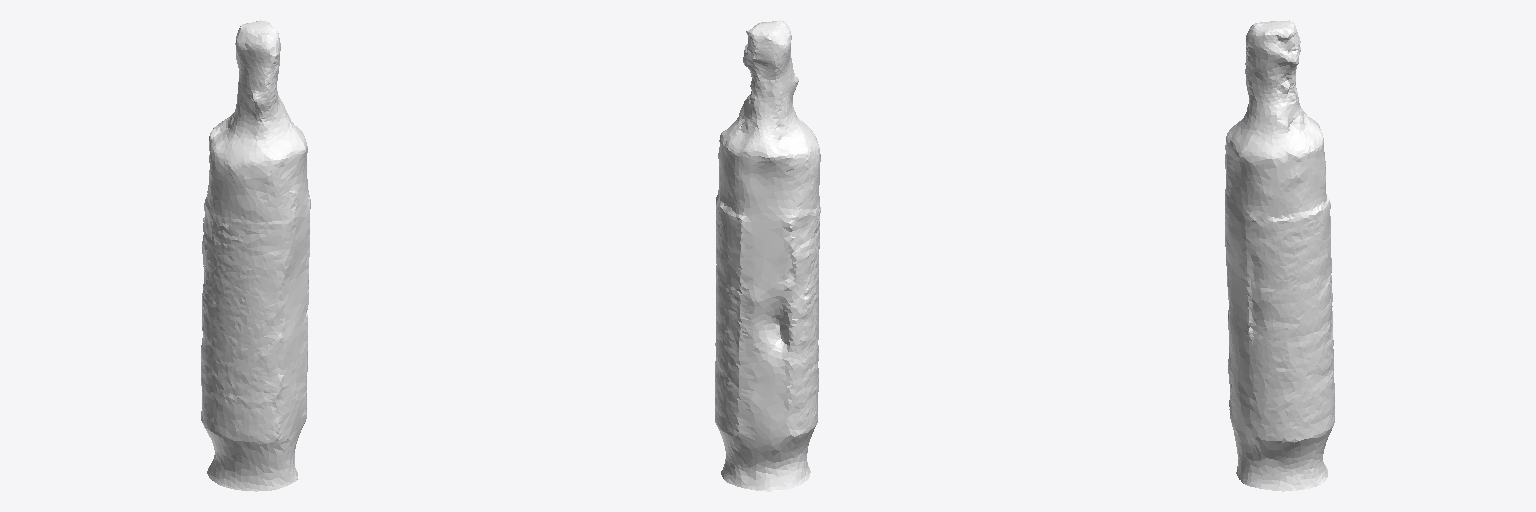
The robot description file, URDF, robot "oil":
<?xml version="1.0" ?>
<robot name="oil">
 <link name="baseLink">
   <contact>
     <lateral_friction value="0.5"/>
   </contact>
   <inertial>
     <origin rpy="0 0 0" xyz="0.001807 -0.000261 -0.016354"/>
      <mass value="1.0"/>
      <inertia ixx="0.000003" ixy="-0.000000" ixz="-0.000000" iyy="0.000003" iyz="0.000000" izz="0.000000"/>
   </inertial>
   <visual>
     <origin rpy="0 0 0" xyz="0 0 0"/>
     <geometry>
       <mesh filename="oil.obj" scale="1.0 1.0 1.0"/>
     </geometry>
      <material name="white">
       <color rgba="1 1 1 1"/>
     </material>
   </visual>
   <collision>
     <origin rpy="0 0 0" xyz="0 0 0"/>
     <geometry>
       <mesh filename="oil_vhacd2.obj" scale="1.0 1.0 1.0"/>
     </geometry>
   </collision>
 </link>
</robot>

--- What the picture shows (computed from the rendered views, not written in the file) ---
The picture shows the robot from 3 angles, left to right: view 1: azimuth 30°, elevation 25°; view 2: azimuth 150°, elevation 25°; view 3: azimuth 270°, elevation 25°; orthographic projection.
Robot: oil — 1 links, 0 joints (none); root link baseLink; default pose: all joints at 0.
Links seen in each view (by area): view 1: baseLink; view 2: baseLink; view 3: baseLink.
Link boxes in pixels (x1,y1,x2,y2): baseLink: (201,20,310,491); baseLink: (715,20,820,491); baseLink: (1225,20,1334,491).
Size in the robot's own frame: 0.0614 by 0.0631 by 0.2829 metres.
1 mesh visuals loaded from 1 distinct referenced files (1 OBJ).